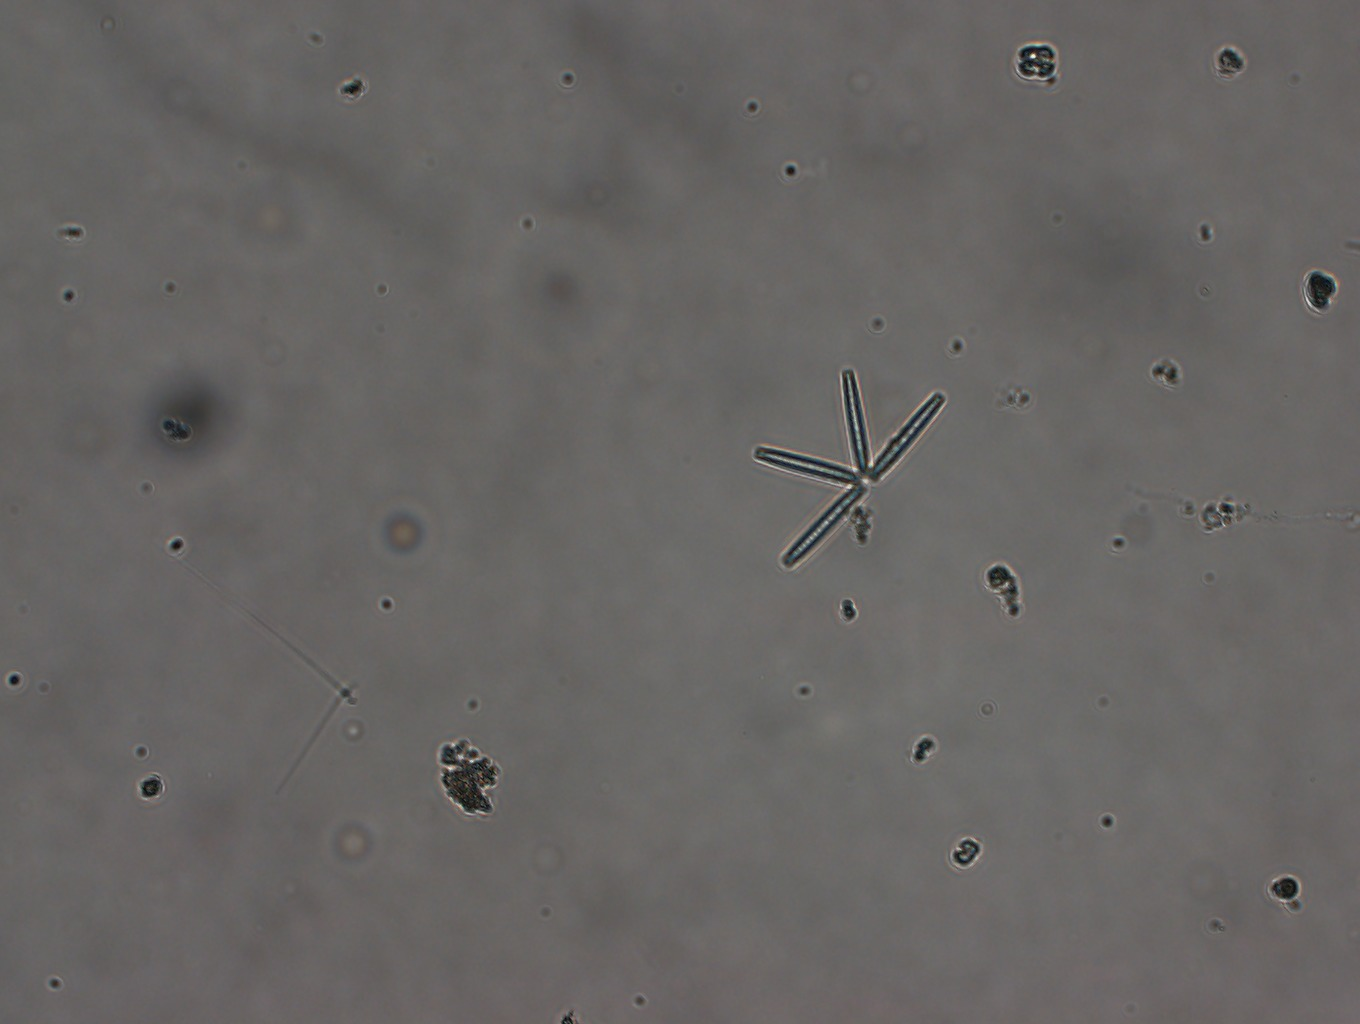thalassionema nitzschioides: (745, 360, 949, 577)
